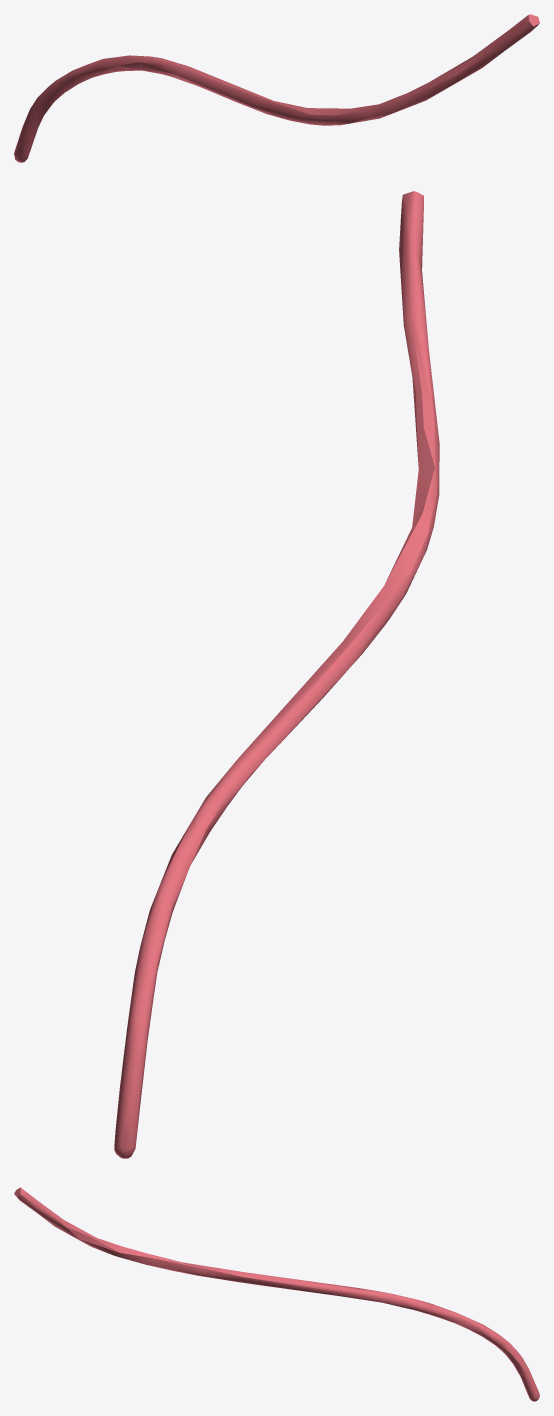
Rendered from fma66504_fj3656.glb.
The picture shows the model from 3 angles, top to bottom: view 1: azimuth 30°, elevation 25°; view 2: azimuth 150°, elevation 25°; view 3: azimuth 270°, elevation 25°; orthographic projection. The views are drawn at different scales.
Visible parts, largest first — view 1: FMA66504_FJ3656; view 2: FMA66504_FJ3656; view 3: FMA66504_FJ3656.
Boxes of the visible parts, x1=… form: FMA66504_FJ3656: x1=14, y1=14, x2=539, y2=162; FMA66504_FJ3656: x1=114, y1=191, x2=439, y2=1158; FMA66504_FJ3656: x1=14, y1=1187, x2=539, y2=1401.
Size of the model in its own units: 0.0244 by 0.0508 by 0.0904.
